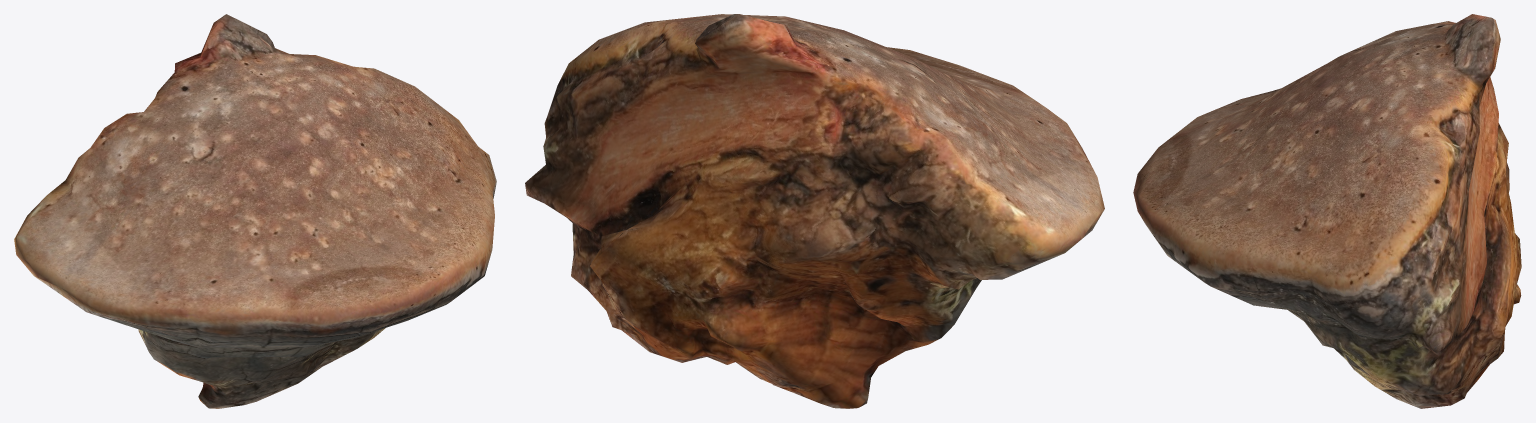
Rendered from amadouvier.glb.
3 renders of one model, left to right at view 1: azimuth 30°, elevation 25°; view 2: azimuth 150°, elevation 25°; view 3: azimuth 270°, elevation 25°, orthographic. The views are drawn at different scales.
Visible parts, largest first — view 1: mushroom_03; view 2: mushroom_03; view 3: mushroom_03.
Boxes of the visible parts, x1,y1,x2,y2 form: mushroom_03: (14,14,496,408); mushroom_03: (525,14,1104,408); mushroom_03: (1133,14,1521,408).
Size of the model in its own units: 6.65 by 5.01 by 4.76.
Materials: 1 (1 with a texture image).
